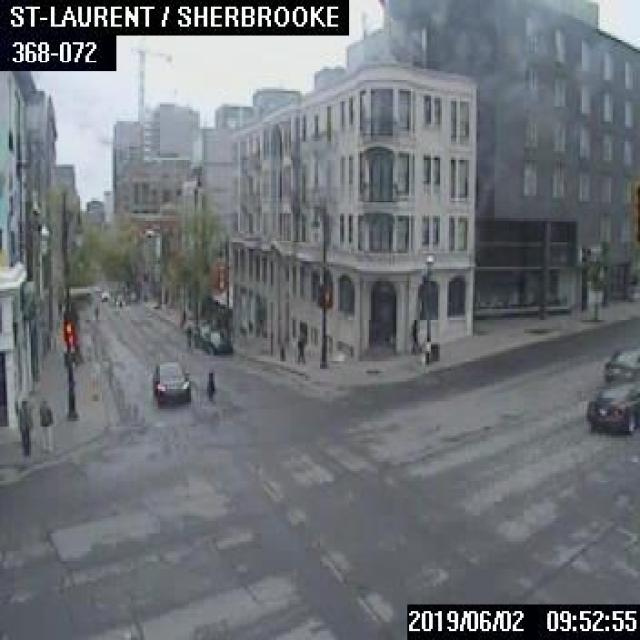pedestrian: (14, 396, 31, 454), (36, 396, 51, 451), (407, 316, 418, 352), (182, 313, 193, 347), (294, 331, 304, 363), (204, 367, 212, 400)
vehicle: (584, 378, 638, 434), (151, 360, 189, 404), (603, 345, 638, 382), (200, 328, 231, 352), (99, 289, 107, 300)
